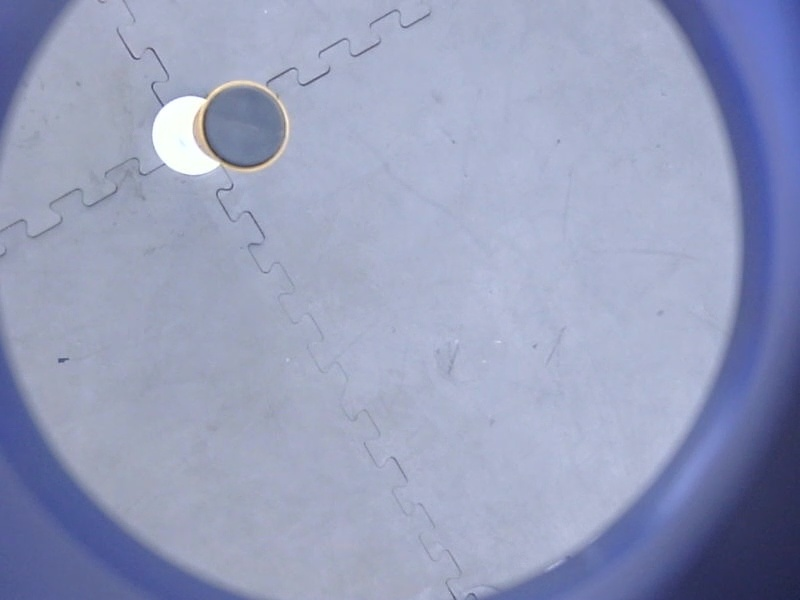tip: (194, 75, 294, 178)
